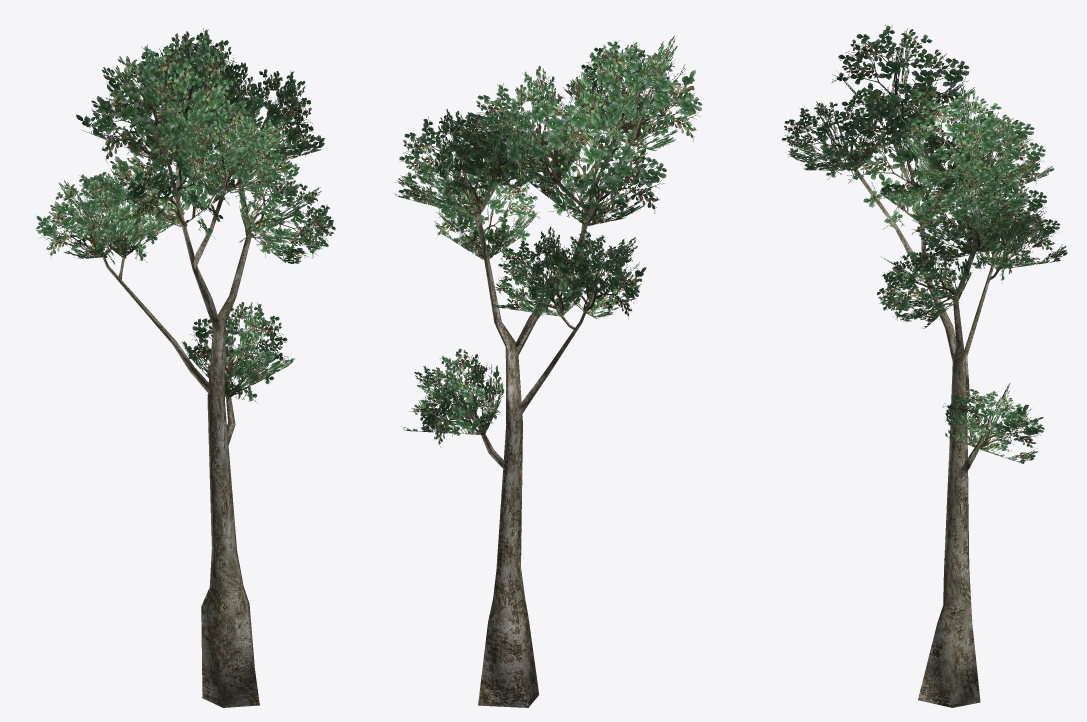
The model's file is decd_hollytreeleaves_a2_l0.fbx.
3 renders of one model, left to right at view 1: azimuth 30°, elevation 25°; view 2: azimuth 150°, elevation 25°; view 3: azimuth 270°, elevation 25°, orthographic. The views are drawn at different scales.
Visible parts, largest first — view 1: mesh_node; view 2: mesh_node; view 3: mesh_node.
Part boxes in pixels (x1,y1,x2,y2): mesh_node: (35, 28, 335, 707); mesh_node: (394, 36, 702, 707); mesh_node: (782, 25, 1067, 707).
Size of the model in its own units: 7.8 by 17.79 by 7.85.
